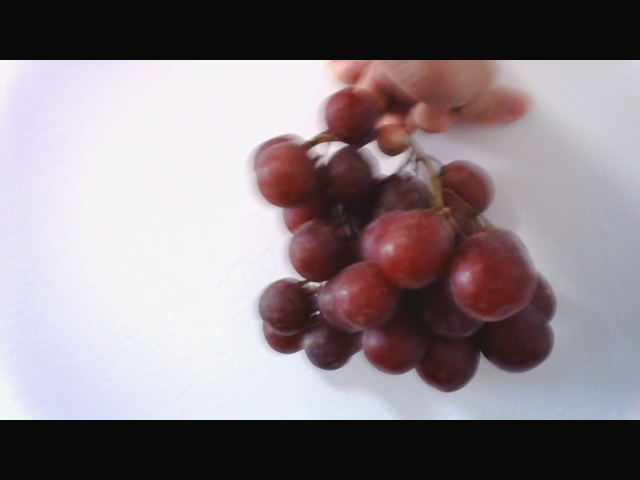grape: (223, 102, 568, 385)
